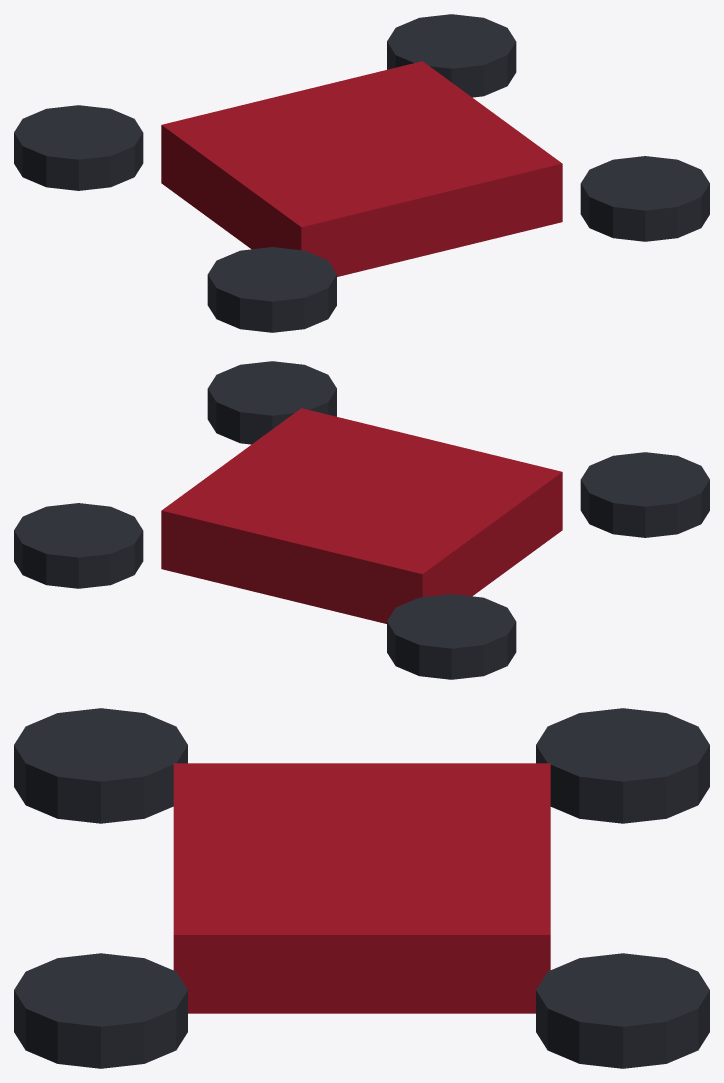
File: drone.glb
The picture shows the model from 3 angles, top to bottom: view 1: azimuth 30°, elevation 25°; view 2: azimuth 150°, elevation 25°; view 3: azimuth 270°, elevation 25°; orthographic projection. The views are drawn at different scales.
Visible parts, largest first — view 1: part_0, part_1, part_2, part_4, part_3; view 2: part_0, part_1, part_2, part_3, part_4; view 3: part_0, part_3, part_4, part_1, part_2.
Boxes of the visible parts, <box> form: part_0: <box>161,61,562,276</box>; part_1: <box>14,105,143,190</box>; part_2: <box>207,247,336,332</box>; part_4: <box>580,156,709,241</box>; part_3: <box>387,14,516,97</box>; part_0: <box>161,408,562,623</box>; part_1: <box>387,594,516,679</box>; part_2: <box>580,452,709,537</box>; part_3: <box>14,503,143,588</box>; part_4: <box>207,361,336,444</box>; part_0: <box>173,763,550,1013</box>; part_3: <box>536,953,709,1068</box>; part_4: <box>14,953,187,1068</box>; part_1: <box>536,708,709,823</box>; part_2: <box>14,708,187,823</box>.
Bounding box in the file's own units: 1.3 × 0.15 × 1.2.
